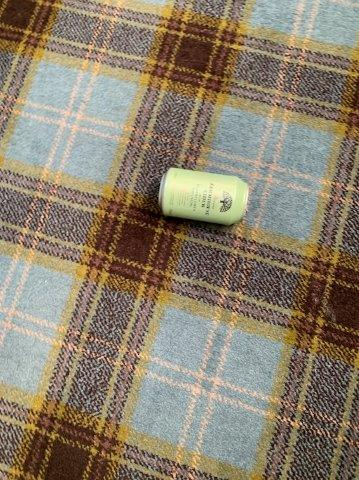kaleng: (159, 168, 248, 224)
